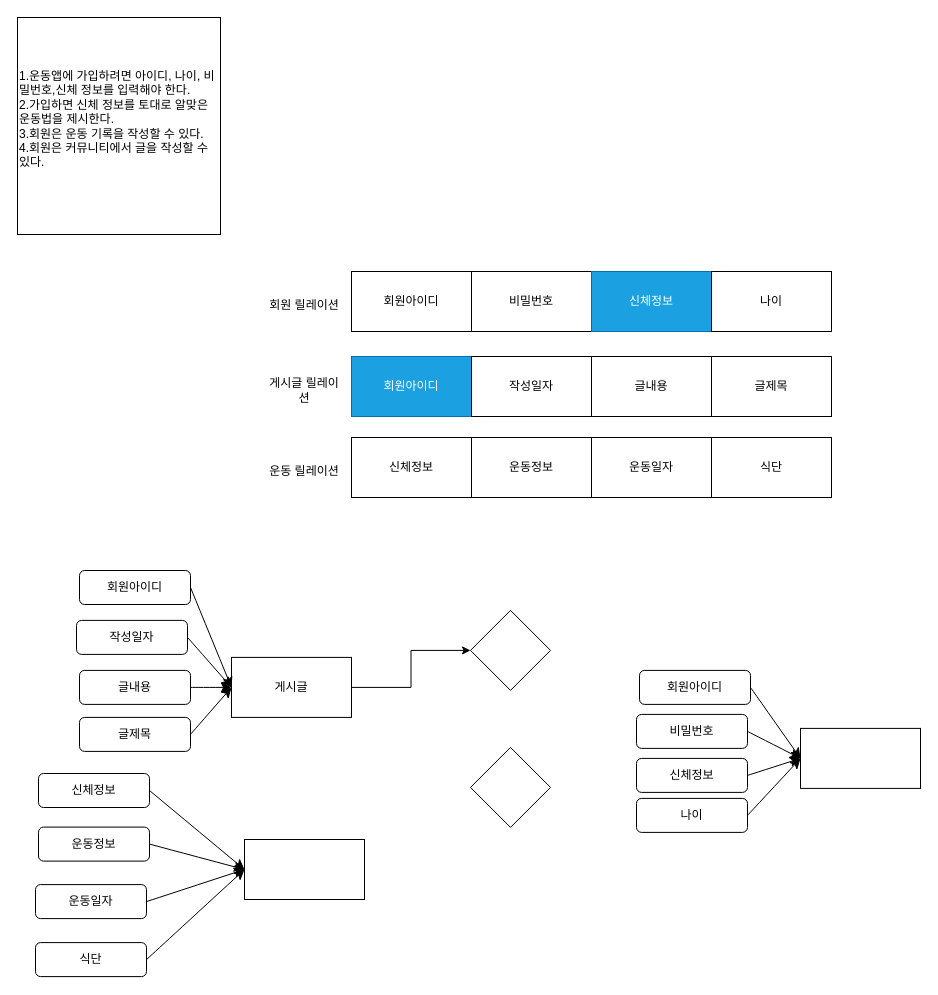
Some shapes in this 938 by 995 pixel diagram are drawn without their labels. Each missing label, with the centre of its shape:
"공급" belongs at pixel 510 649.
"분류" belongs at pixel 510 786.
"운동" belongs at pixel 304 869.
"회원" belongs at pixel 860 757.
